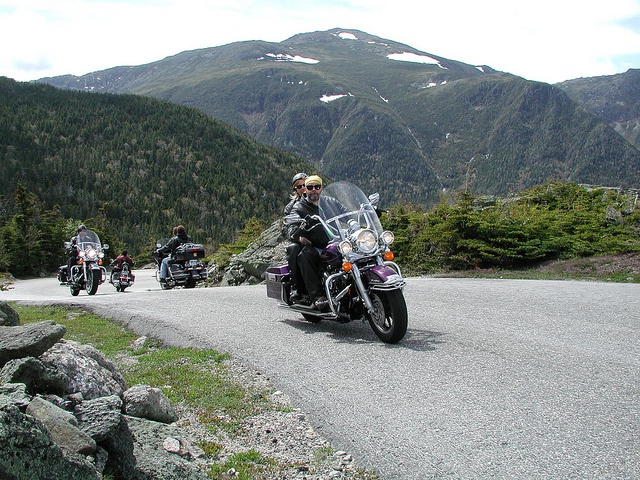non-vehicle: (264, 191, 408, 345), (57, 228, 109, 295), (151, 242, 209, 289), (107, 255, 134, 291)
